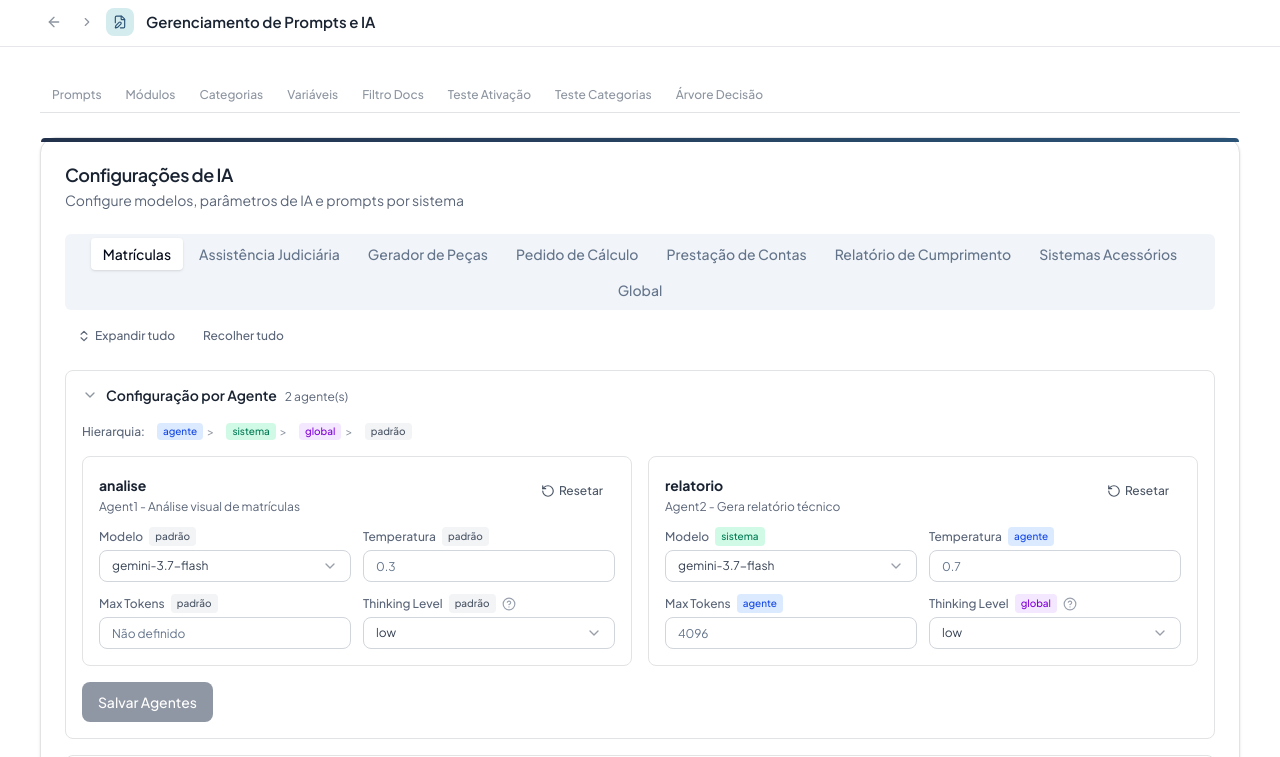
Test case: PromptsPage › deve expandir tudo ao clicar no botão
The width and height of the screenshot is (1280, 757).
Click the button "Expandir tudo" at (126, 336), box [65, 318, 187, 354]
(page scrolled)
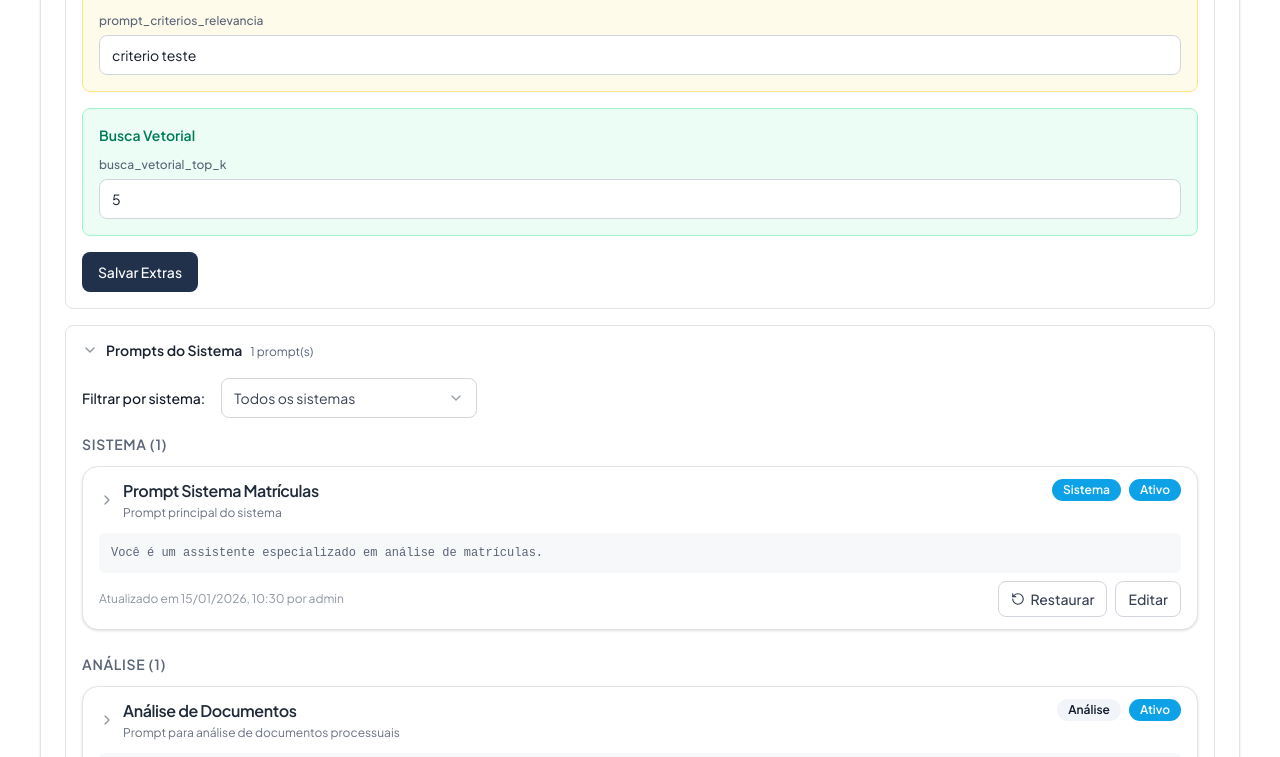
Now the text "Filtrar por sistema:" is shown, box [82, 391, 205, 405]
